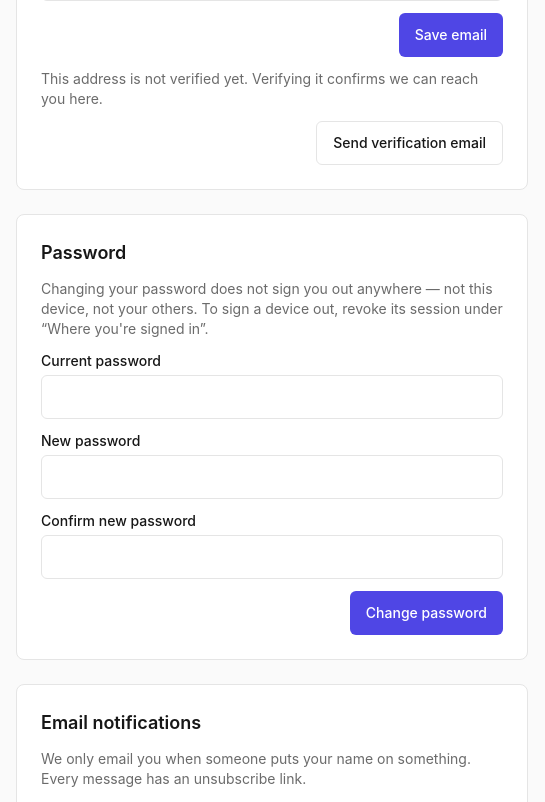
Test: Account › shows an error when the current password is wrong
The image size is (545, 802).
(page scrolled)
Type "wrongpass" into the password field labelled "Current password" at {"x": 272, "y": 397}, box top-left (41, 375), bottom-right (503, 419)
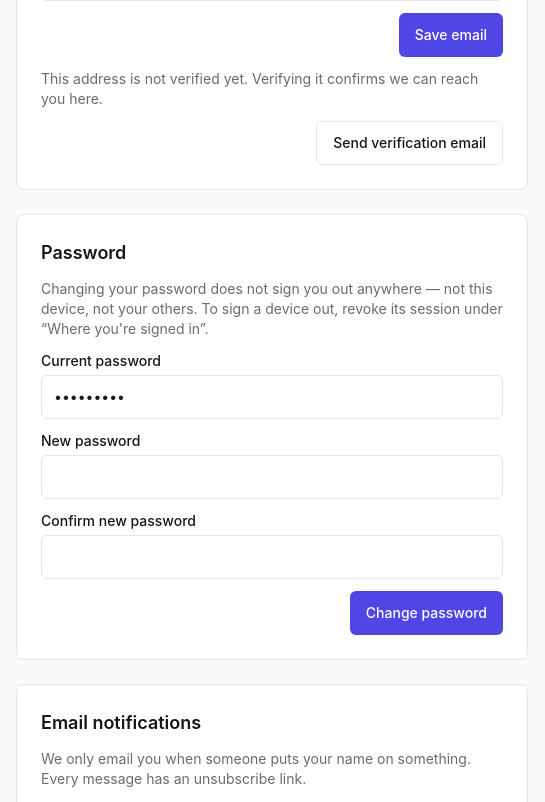
Type "newpass12" into the password field labelled "New password" at {"x": 272, "y": 477}, box top-left (41, 455), bottom-right (503, 499)
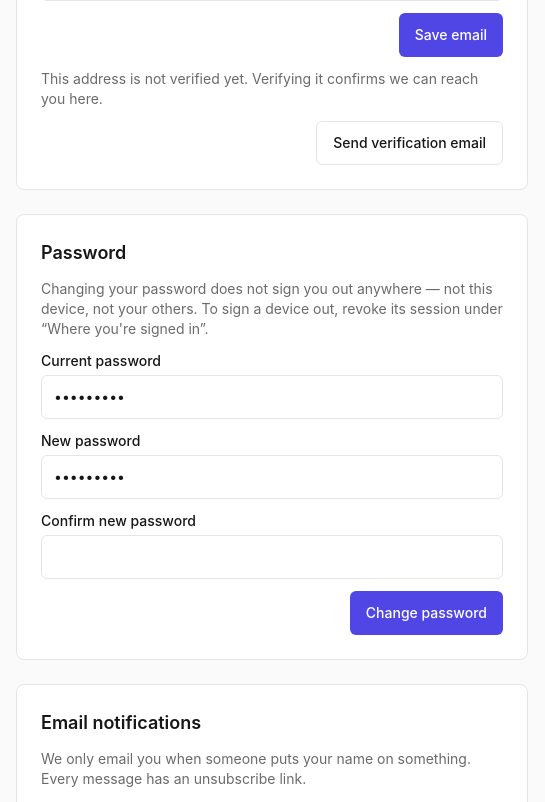
Type "newpass12" into the password field labelled "Confirm new password" at {"x": 272, "y": 557}, box top-left (41, 535), bottom-right (503, 579)
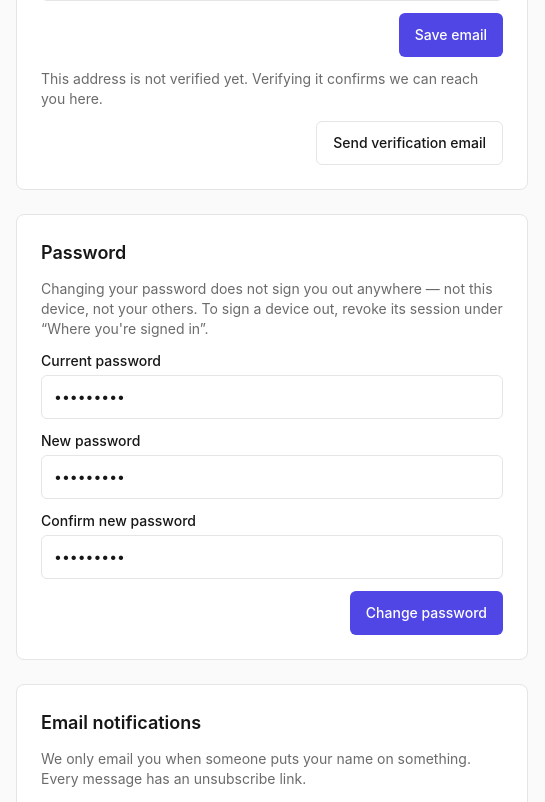
Click the button "Change password" at {"x": 426, "y": 613}, box top-left (350, 591), bottom-right (503, 635)
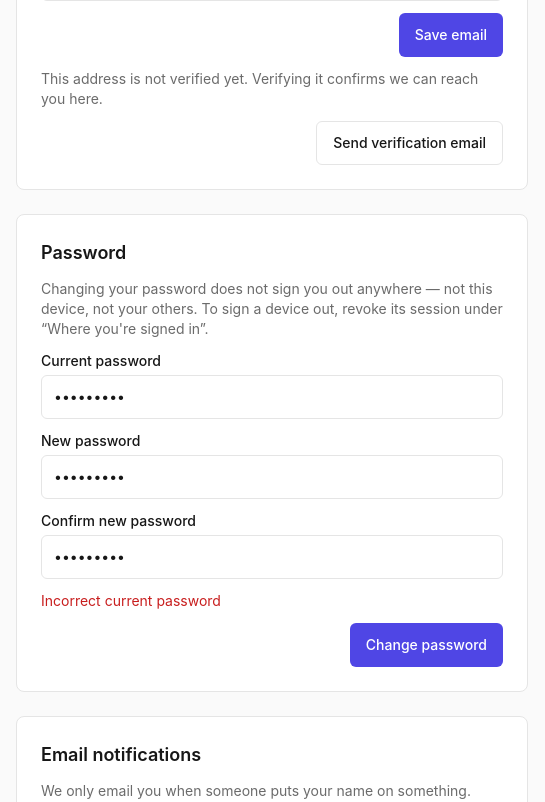
Result: the text "Incorrect current password" is shown at top-left (41, 592), bottom-right (221, 609)
